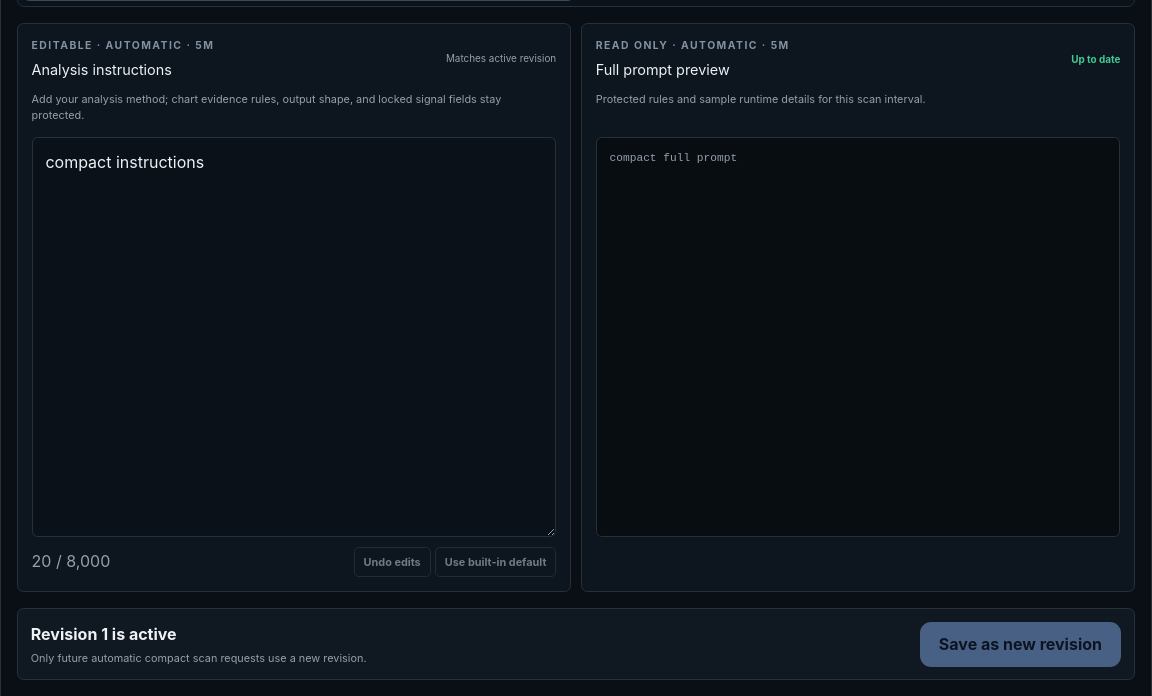
Test: prompt studio › records privacy-safe client telemetry when a revision is created
(page scrolled)
Step 1. Replace the text in the text box named "Analysis instructions for Compact scan" with "private changed instructions" → (294, 337), box [32,137,556,537]
(page scrolled)
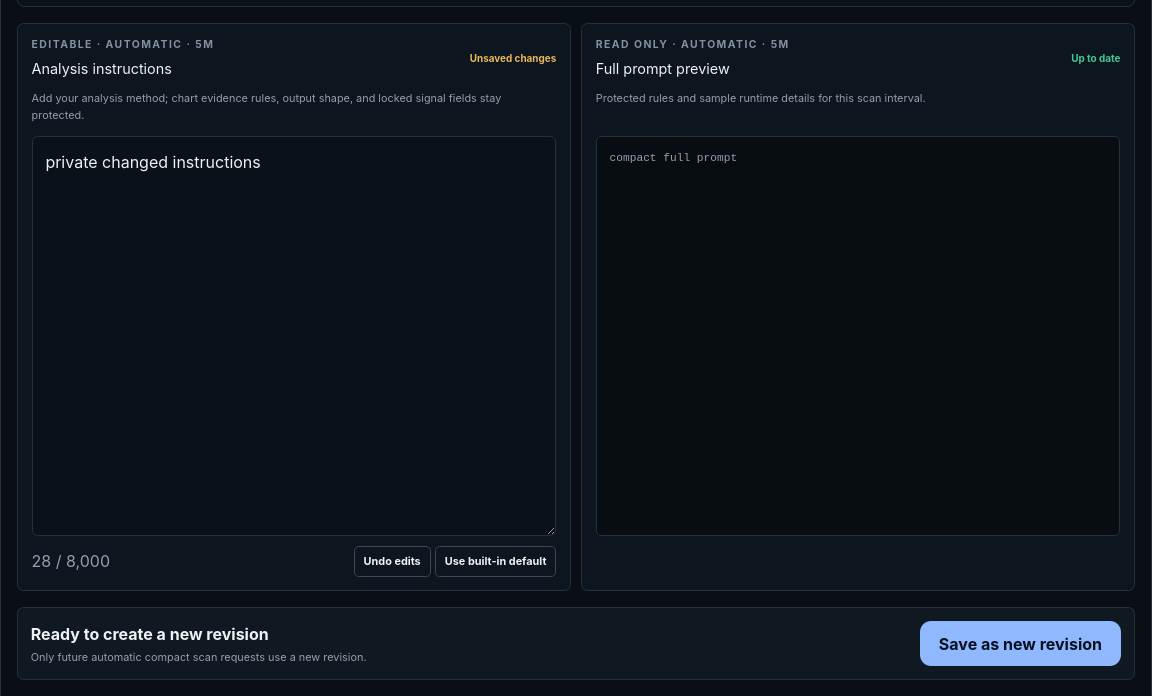
expect the button "Save as new revision" is enabled: met
Step 2. Click the button "Save as new revision" → (1020, 644), box [920,621,1121,666]
(page scrolled)
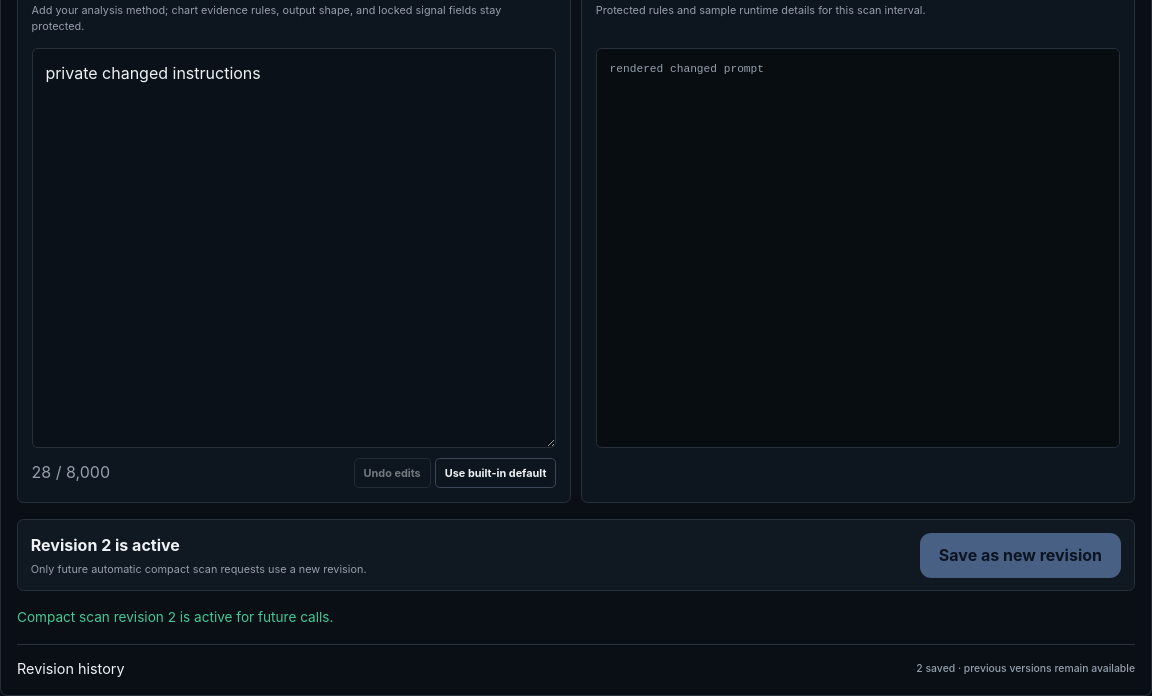
expect the text "Compact scan revision 2 is active for future calls." is shown: met, box [17,609,333,625]
